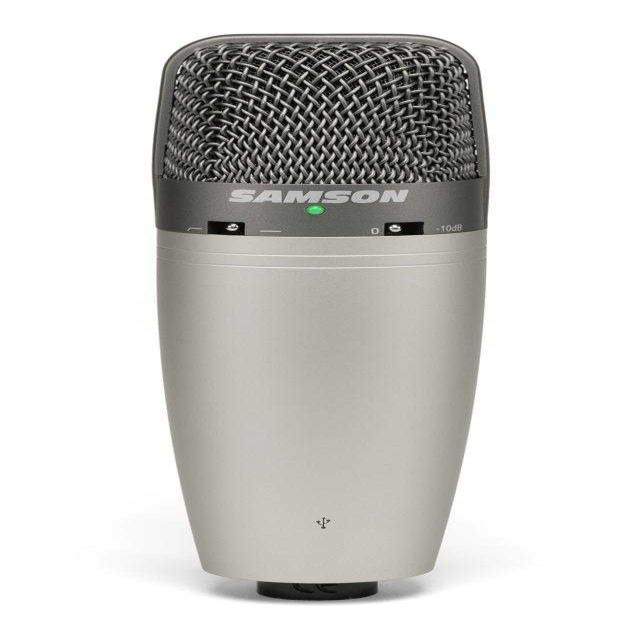microphone: (153, 36, 498, 584)
